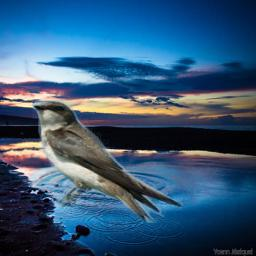Swallow: (32, 100, 182, 223)
